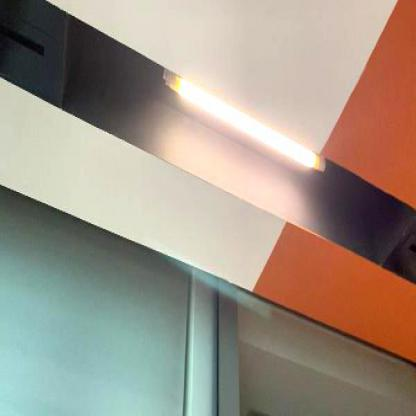light_on: (155, 57, 331, 192)
